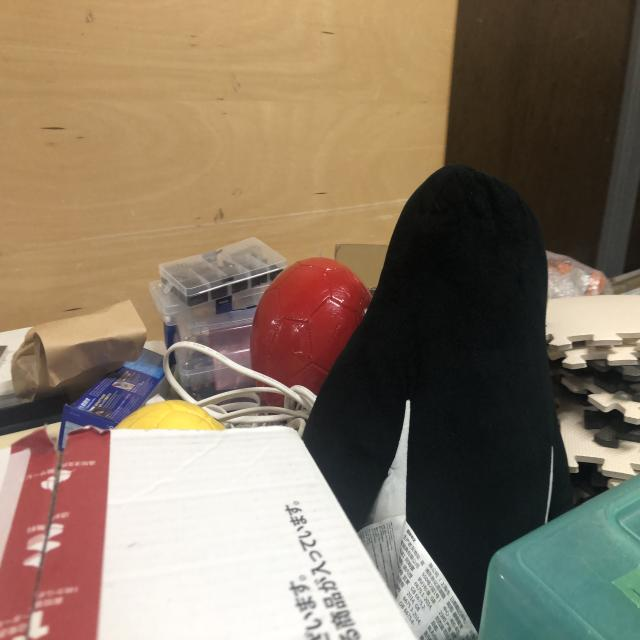red_ball: (254, 255, 386, 416)
